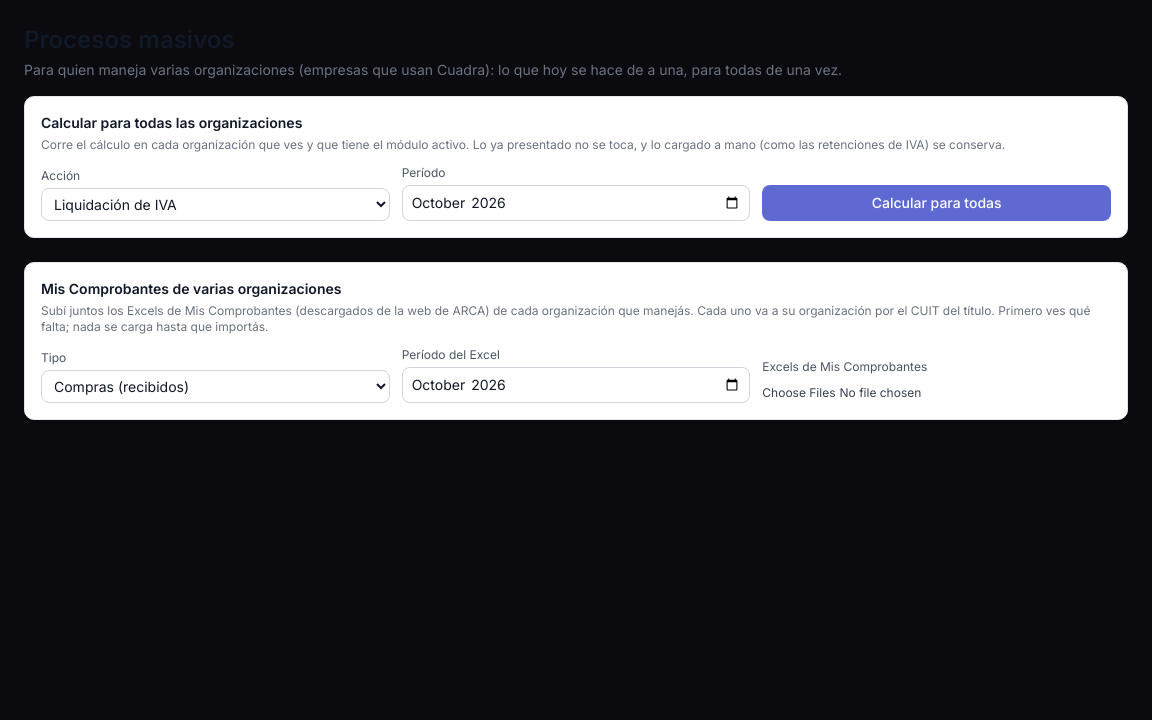
Test case: ProcesosMasivos › calcula para todas y muestra el resultado de cada organización
Select "Liquidación de IVA" in the dropdown labelled "Acción" at point(215, 204), box [41, 188, 390, 221]
Replace the text in the field labelled "Período" with "2026-09" at point(576, 203), box [402, 185, 750, 221]
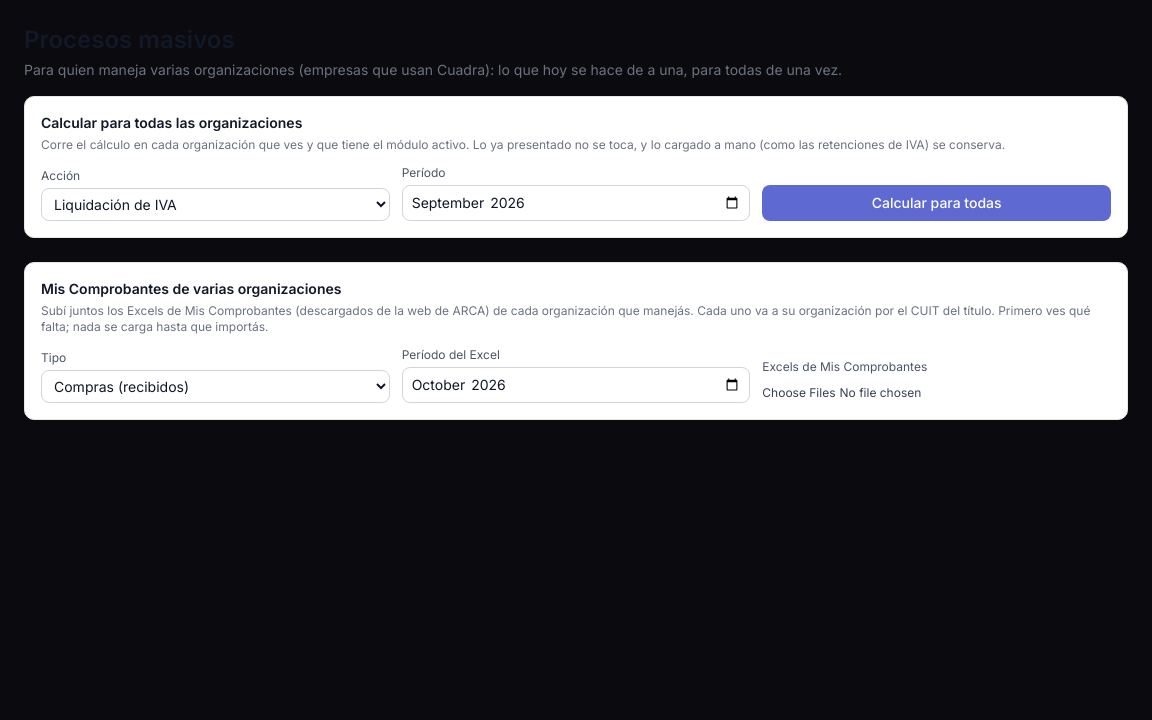
Click the button "Calcular para todas" at point(937, 203), box [762, 185, 1111, 221]
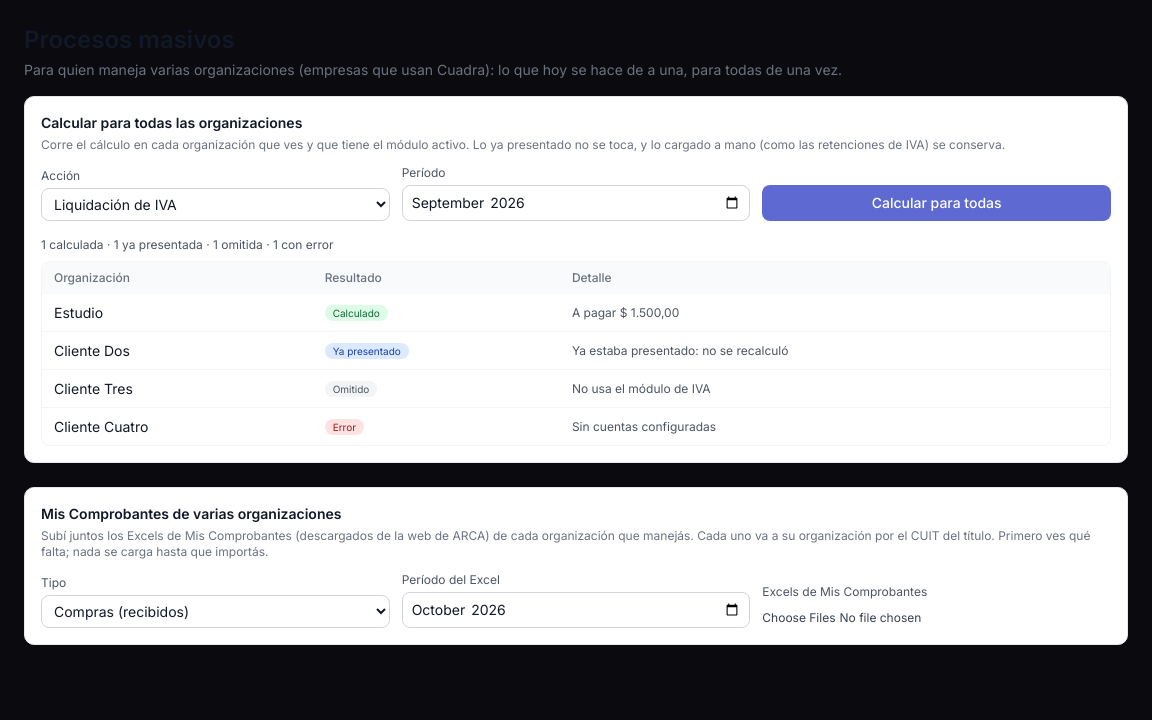
expect the text "Estudio" is shown: met, box [42, 294, 313, 332]
expect the text "Calculado" is shown: met, box [325, 305, 388, 321]
expect the text "Ya presentado" is shown: met, box [325, 343, 409, 359]
